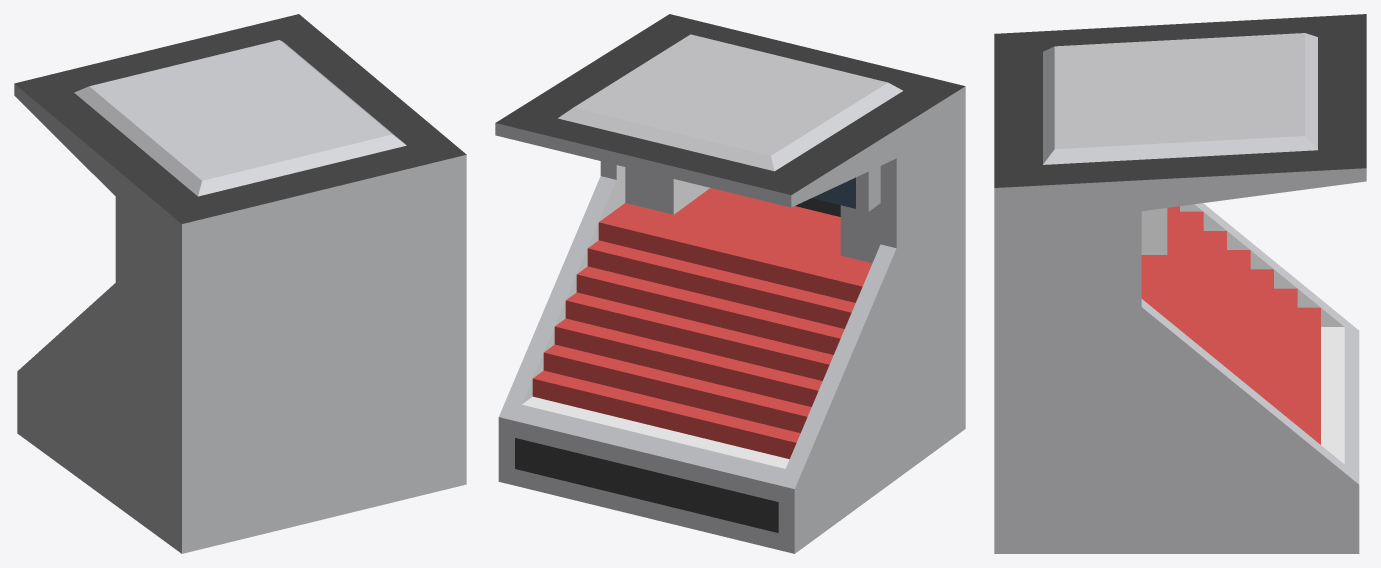
Rendered from grandStandCovered.obj.
3 views of the same model, side by side, from view 1: azimuth 30°, elevation 25°; view 2: azimuth 150°, elevation 25°; view 3: azimuth 270°, elevation 25° (orthographic). The views are drawn at different scales.
Visible parts, largest first — view 1: grandStandCovered; view 2: grandStandCovered; view 3: grandStandCovered.
Boxes of the visible parts, x1=… form: grandStandCovered: x1=14, y1=14, x2=466, y2=553; grandStandCovered: x1=495, y1=14, x2=965, y2=553; grandStandCovered: x1=994, y1=14, x2=1366, y2=553.
Size of the model in its own units: 10 by 11.86 by 10.2.
